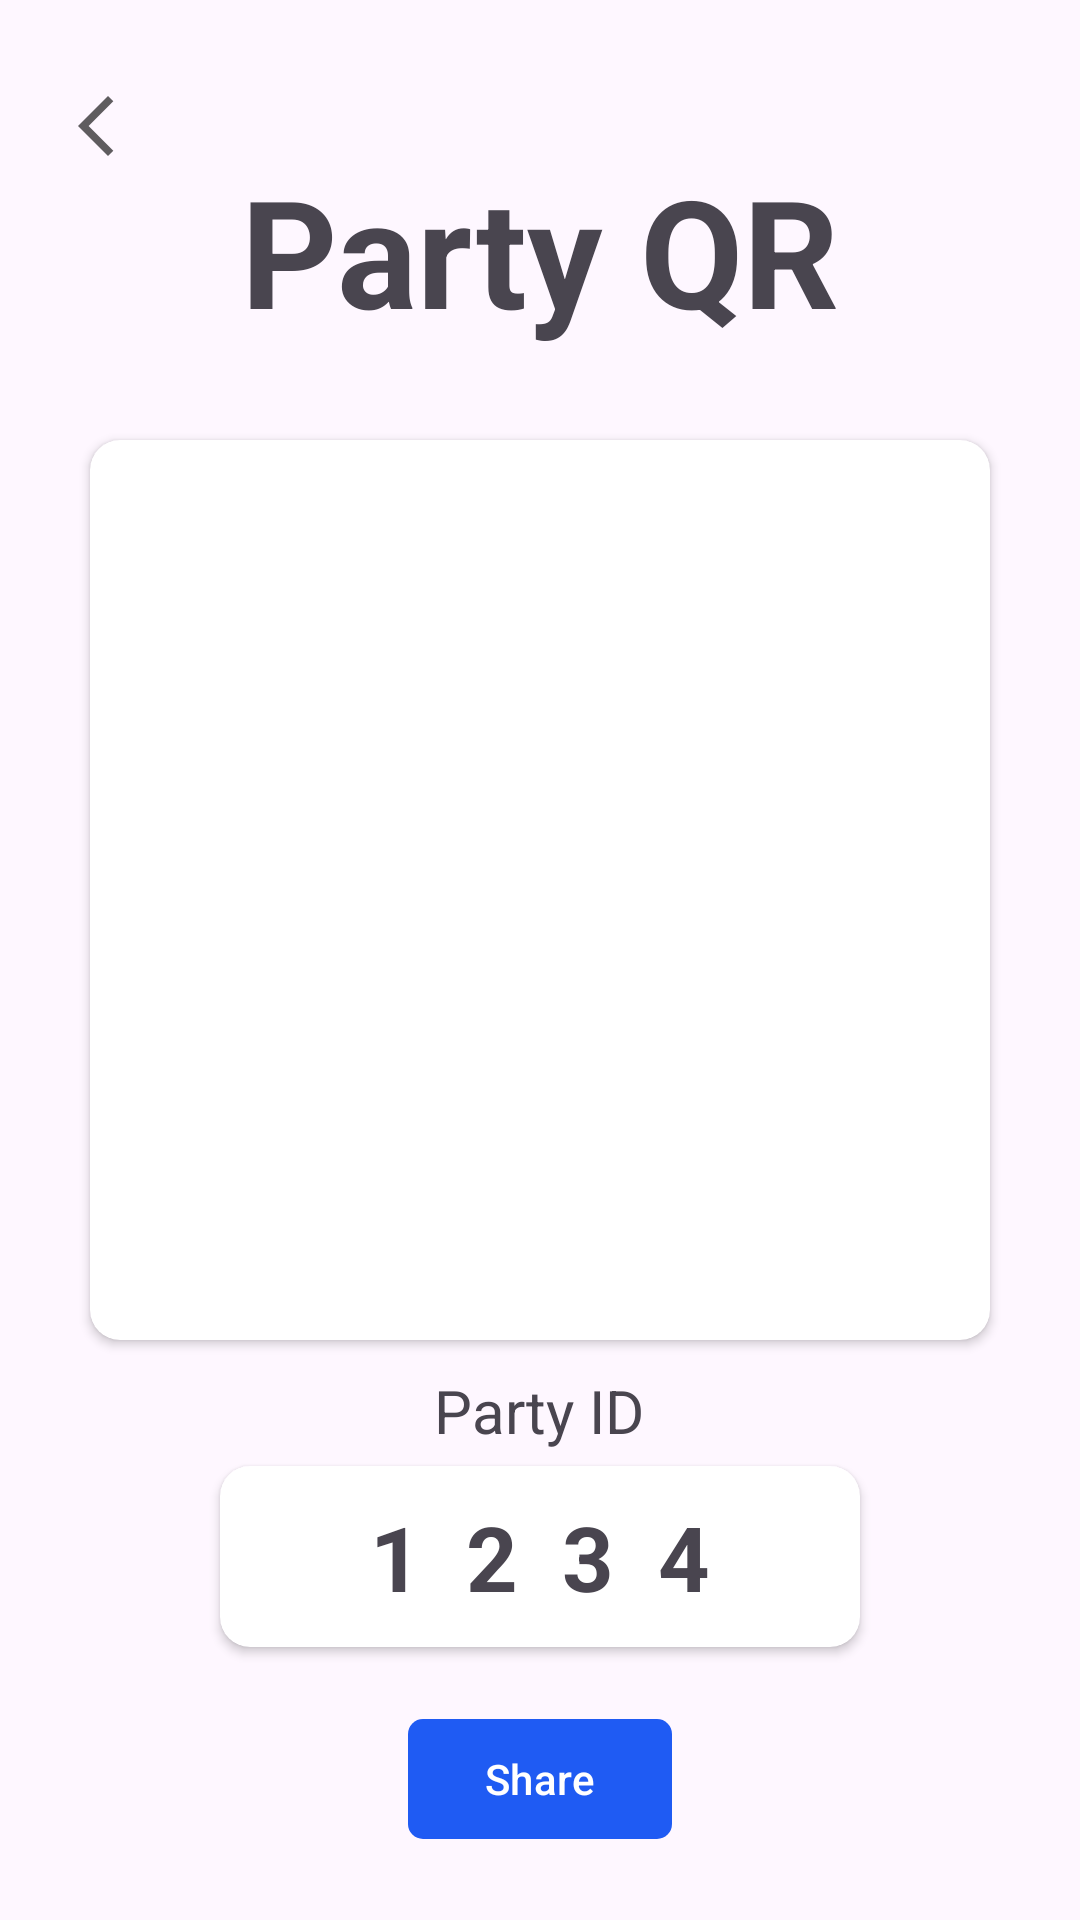

Named icons in this screenshot (1080px x 1920px) and their centers, [x,y]:
back arrow: [95,126]
